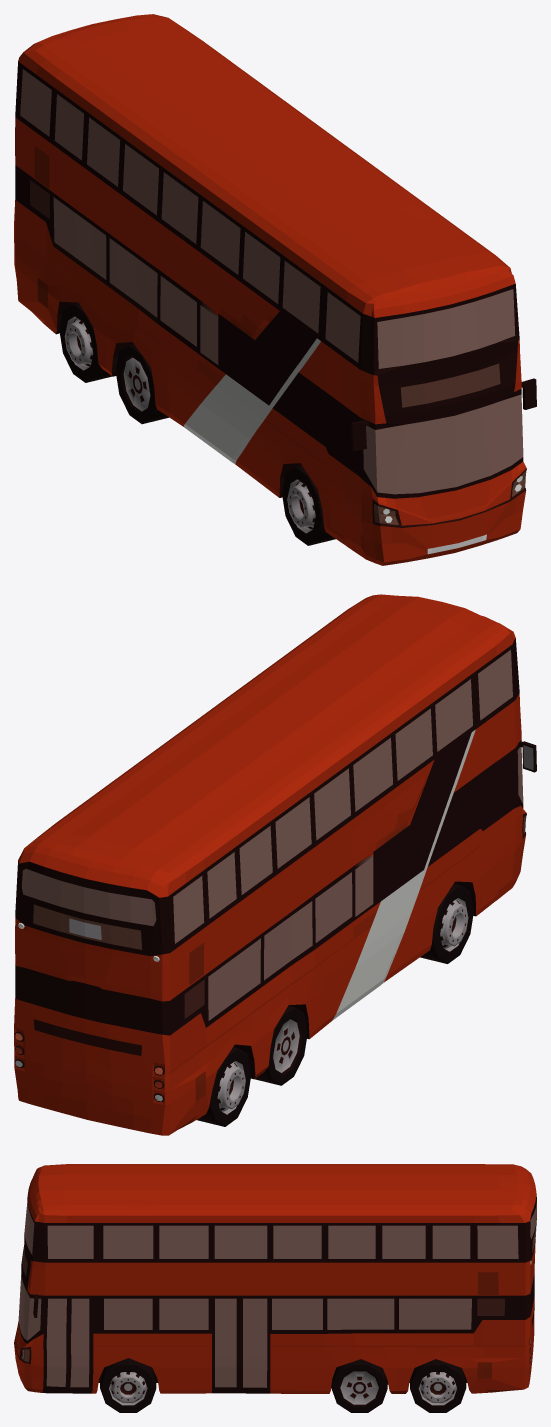
File: bus.glb
3 views of the same model, one above another, from view 1: azimuth 30°, elevation 25°; view 2: azimuth 150°, elevation 25°; view 3: azimuth 270°, elevation 25° (orthographic). The views are drawn at different scales.
Parts seen in each view (by area): view 1: BusBody; view 2: BusBody; view 3: BusBody.
Boxes of the visible parts, x1=… form: BusBody: x1=14, y1=14, x2=536, y2=565; BusBody: x1=14, y1=594, x2=536, y2=1135; BusBody: x1=14, y1=1164, x2=536, y2=1412.
Size of the model in its own units: 6.34 by 9.65 by 22.41.
1 material, 1 textured.
